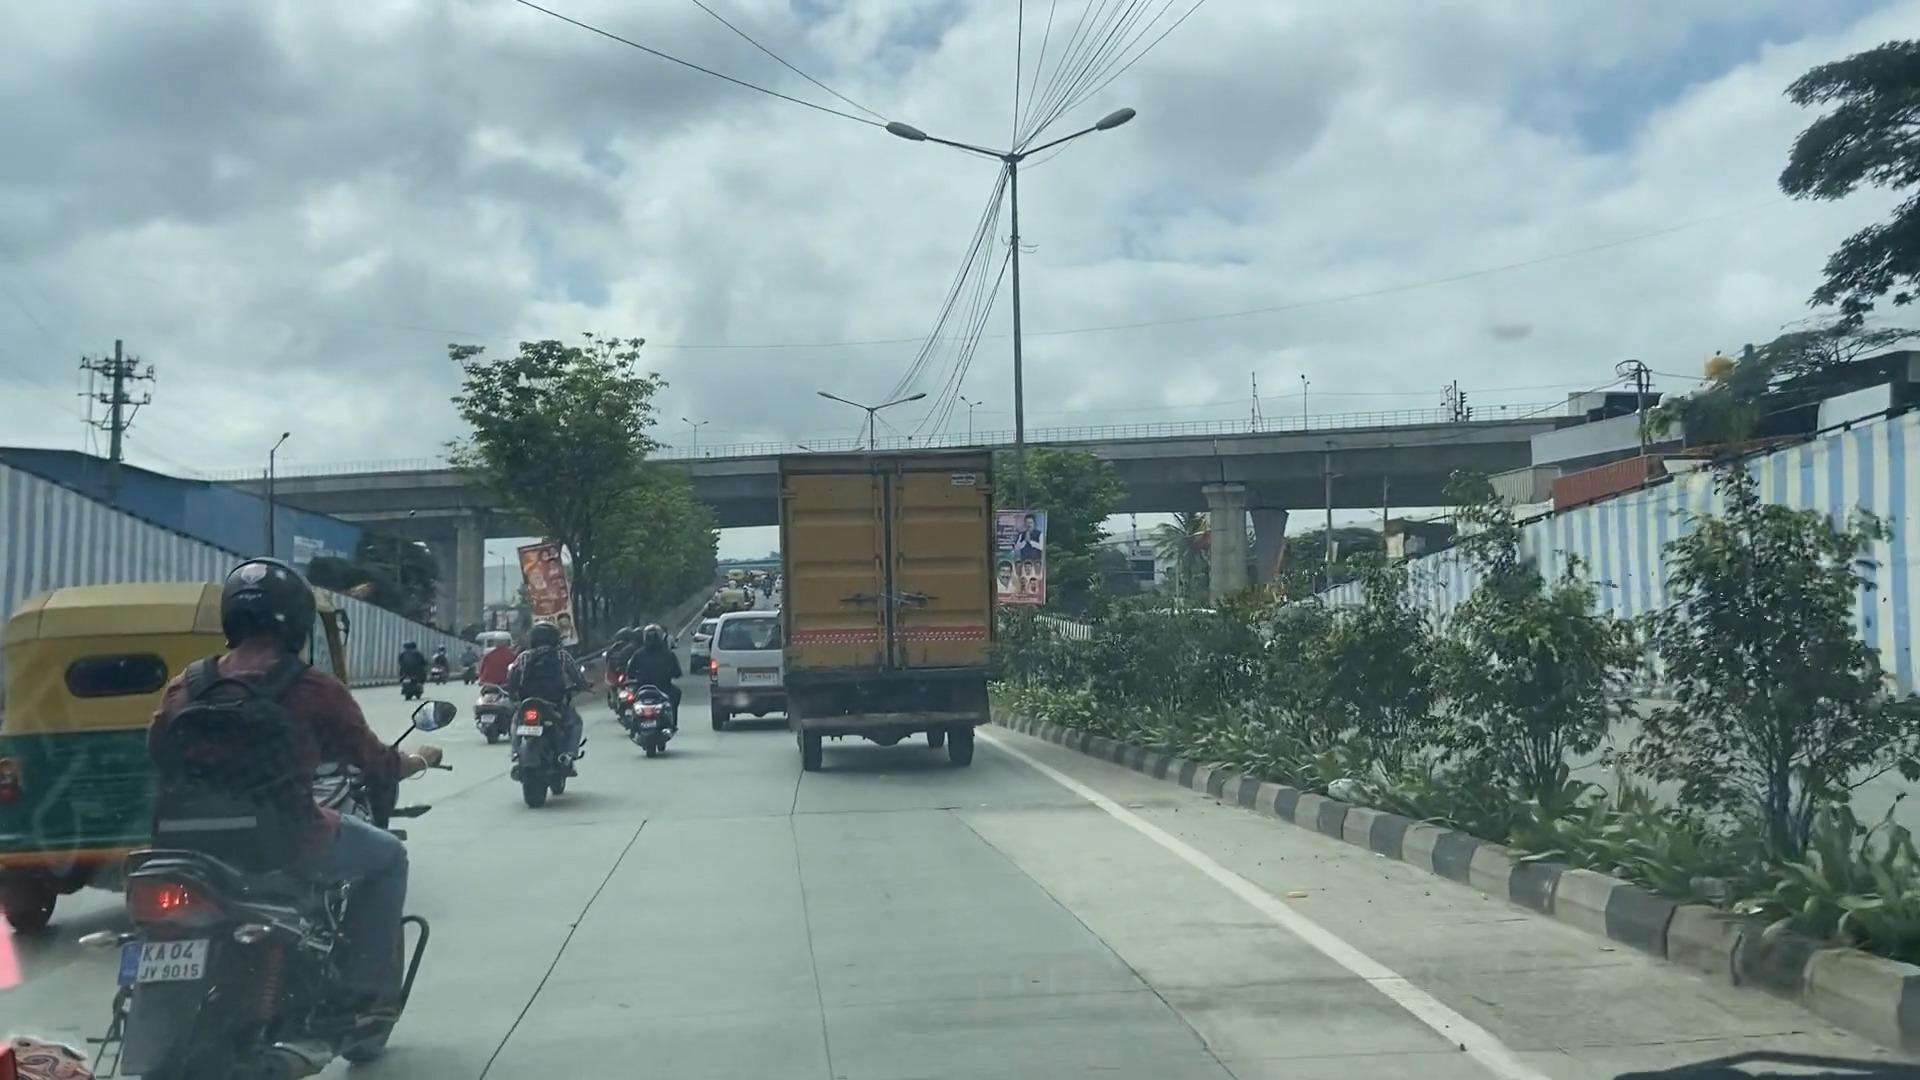HMV: (783, 456, 998, 764)
LMV: (129, 570, 390, 1080), (510, 630, 589, 799), (613, 613, 675, 775), (709, 624, 785, 723)
